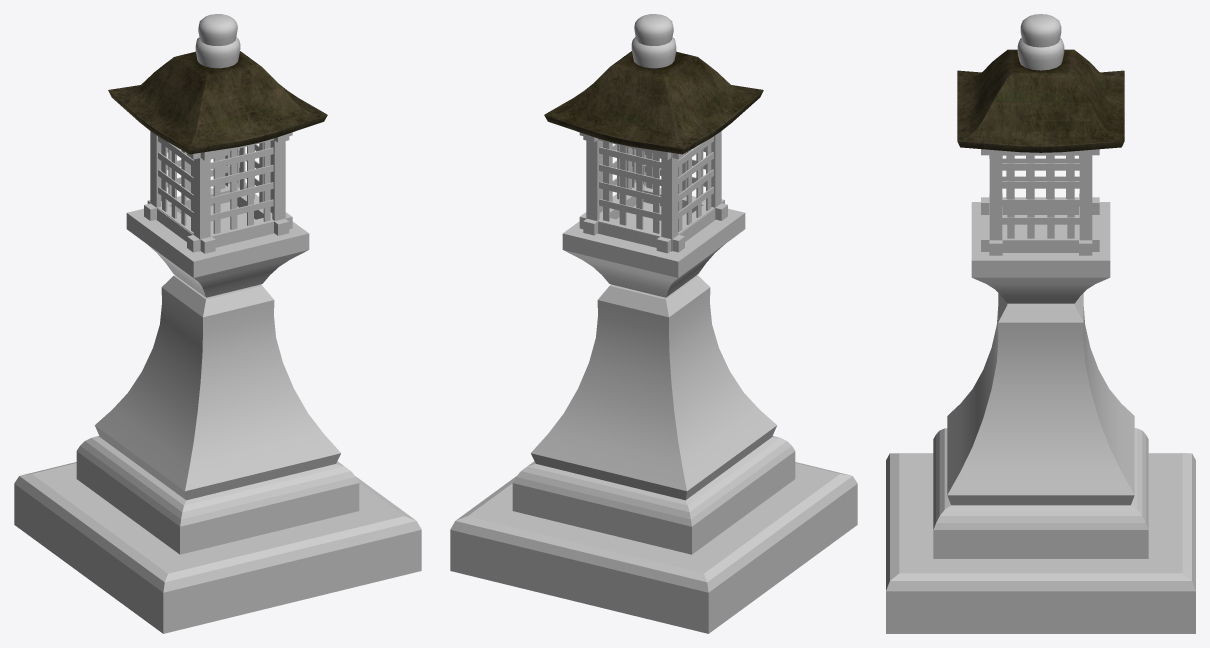
The picture shows the model from 3 angles, left to right: view 1: azimuth 30°, elevation 25°; view 2: azimuth 150°, elevation 25°; view 3: azimuth 270°, elevation 25°; orthographic projection. The views are drawn at different scales.
Parts seen in each view (by area): view 1: SO_002_Base_001, SO_002_Mid_Part_001, SO_002_Base_002, SO_002_Cape, SO_002_Mid_Part_002, SO_002_Lamp_Wood_Mid, SO_002_Lamp_Border_Wood, SO_002_Lamo_Wood_Bottom, SO_002_Top_Ball_001, SO_002_Top_Ball_002; view 2: SO_002_Base_001, SO_002_Mid_Part_001, SO_002_Base_002, SO_002_Cape, SO_002_Mid_Part_002, SO_002_Lamp_Wood_Mid, SO_002_Lamp_Border_Wood, SO_002_Lamo_Wood_Bottom, SO_002_Top_Ball_001, SO_002_Top_Ball_002; view 3: SO_002_Base_001, SO_002_Mid_Part_001, SO_002_Cape, SO_002_Base_002, SO_002_Mid_Part_002, SO_002_Lamp_Wood_Mid, SO_002_Lamp_Border_Wood, SO_002_Lamo_Wood_Bottom, SO_002_Top_Ball_001, SO_002_Top_Ball_002.
Part boxes in pixels (bbox=[...]): SO_002_Base_001: bbox=[14, 462, 421, 633]; SO_002_Mid_Part_001: bbox=[94, 275, 340, 500]; SO_002_Base_002: bbox=[76, 436, 359, 554]; SO_002_Cape: bbox=[108, 51, 327, 154]; SO_002_Mid_Part_002: bbox=[126, 194, 309, 297]; SO_002_Lamp_Wood_Mid: bbox=[158, 136, 273, 233]; SO_002_Lamp_Border_Wood: bbox=[150, 131, 285, 251]; SO_002_Lamo_Wood_Bottom: bbox=[144, 182, 292, 253]; SO_002_Top_Ball_001: bbox=[198, 14, 237, 45]; SO_002_Top_Ball_002: bbox=[195, 37, 240, 68]; SO_002_Base_001: bbox=[450, 462, 857, 633]; SO_002_Mid_Part_001: bbox=[531, 275, 777, 500]; SO_002_Base_002: bbox=[512, 436, 795, 554]; SO_002_Cape: bbox=[544, 51, 763, 154]; SO_002_Mid_Part_002: bbox=[562, 194, 745, 297]; SO_002_Lamp_Wood_Mid: bbox=[599, 136, 713, 233]; SO_002_Lamp_Border_Wood: bbox=[586, 131, 721, 251]; SO_002_Lamo_Wood_Bottom: bbox=[579, 182, 727, 253]; SO_002_Top_Ball_001: bbox=[634, 14, 673, 45]; SO_002_Top_Ball_002: bbox=[631, 37, 676, 68]; SO_002_Base_001: bbox=[886, 453, 1195, 633]; SO_002_Mid_Part_001: bbox=[947, 293, 1134, 505]; SO_002_Cape: bbox=[957, 49, 1124, 152]; SO_002_Base_002: bbox=[933, 428, 1148, 558]; SO_002_Mid_Part_002: bbox=[971, 202, 1110, 303]; SO_002_Lamp_Wood_Mid: bbox=[1002, 155, 1079, 238]; SO_002_Lamp_Border_Wood: bbox=[989, 151, 1092, 252]; SO_002_Lamo_Wood_Bottom: bbox=[981, 193, 1099, 255]; SO_002_Top_Ball_001: bbox=[1020, 14, 1061, 47]; SO_002_Top_Ball_002: bbox=[1017, 38, 1064, 70].
Size of the model in its own units: 136 by 266 by 136.
